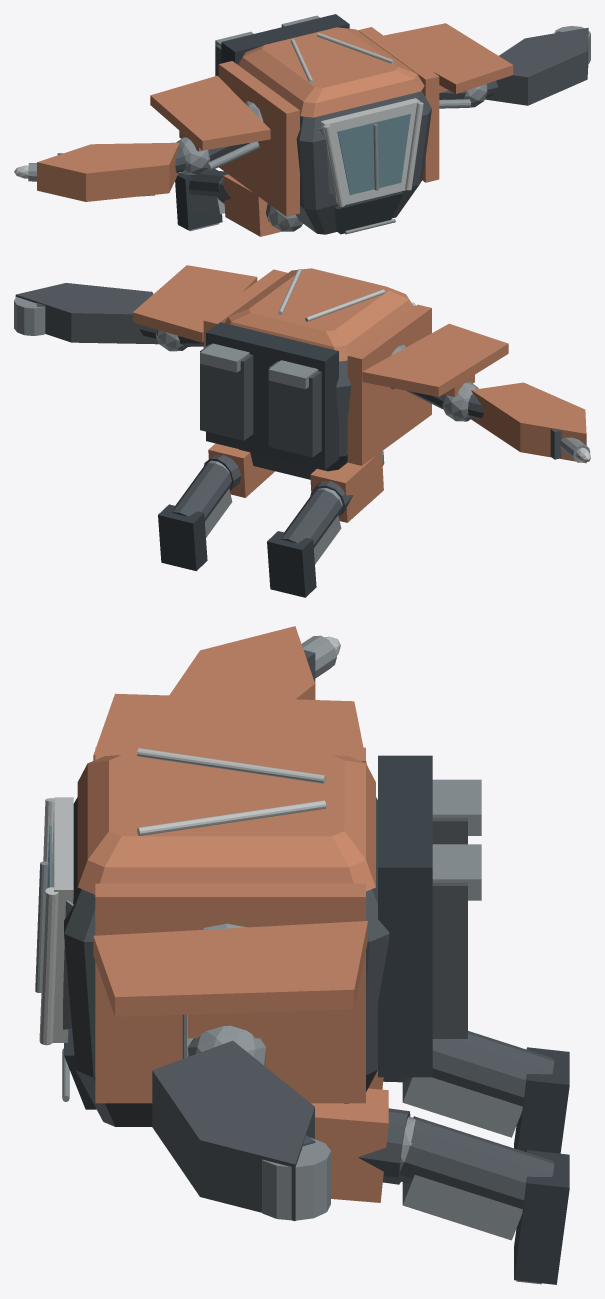
File: imp_orange_flight.glb
The picture shows the model from 3 angles, top to bottom: view 1: azimuth 30°, elevation 25°; view 2: azimuth 150°, elevation 25°; view 3: azimuth 270°, elevation 25°; orthographic projection. The views are drawn at different scales.
Visible parts, largest first — view 1: roof_armor, wing_guard_left, side_armor_-1, shoulder_wing_left, wing_guard_right, main_chassis, shoulder_wing_right, cockpit_glass, cockpit_surround, side_armor_1, rear_engine_block, thigh_armor_left (+12 smaller); view 2: roof_armor, rear_engine_block, side_armor_-1, shoulder_wing_left, wing_guard_right, wing_guard_left, shoulder_wing_right, rear_engine_casing_1, rear_engine_casing_-1, foot_right, foot_left, thigh_armor_left (+12 smaller); view 3: roof_armor, side_armor_1, shoulder_wing_right, wing_guard_right, rear_engine_block, shoulder_wing_left, main_chassis, shin_right, wing_guard_left, thigh_armor_right, rear_engine_casing_1, shin_left (+18 smaller).
Boxes of the visible parts, x1=… form: roof_armor: x1=238, y1=27, x2=424, y2=117; wing_guard_left: x1=37, y1=142, x2=179, y2=201; side_armor_-1: x1=218, y1=61, x2=299, y2=216; shoulder_wing_left: x1=150, y1=75, x2=270, y2=150; wing_guard_right: x1=485, y1=27, x2=588, y2=105; main_chassis: x1=295, y1=91, x2=431, y2=234; shoulder_wing_right: x1=384, y1=23, x2=513, y2=93; cockpit_glass: x1=337, y1=114, x2=410, y2=194; cockpit_surround: x1=320, y1=98, x2=420, y2=204; side_armor_1: x1=358, y1=27, x2=439, y2=182; rear_engine_block: x1=221, y1=14, x2=349, y2=64; thigh_armor_left: x1=223, y1=174, x2=281, y2=236; roof_armor: x1=224, y1=268, x2=413, y2=361; rear_engine_block: x1=206, y1=322, x2=338, y2=469; side_armor_-1: x1=347, y1=304, x2=431, y2=465; shoulder_wing_left: x1=362, y1=323, x2=508, y2=396; wing_guard_right: x1=15, y1=283, x2=158, y2=344; wing_guard_left: x1=471, y1=382, x2=586, y2=463; shoulder_wing_right: x1=133, y1=265, x2=257, y2=342; rear_engine_casing_1: x1=200, y1=344, x2=253, y2=440; rear_engine_casing_-1: x1=268, y1=361, x2=321, y2=457; foot_right: x1=158, y1=504, x2=207, y2=571; foot_left: x1=267, y1=531, x2=316, y2=597; thigh_armor_left: x1=310, y1=451, x2=383, y2=522; roof_armor: x1=77, y1=755, x2=375, y2=894; side_armor_1: x1=95, y1=883, x2=365, y2=1103; shoulder_wing_right: x1=93, y1=921, x2=367, y2=1016; wing_guard_right: x1=152, y1=1040, x2=314, y2=1220; rear_engine_block: x1=378, y1=755, x2=432, y2=1077; shoulder_wing_left: x1=93, y1=693, x2=366, y2=764; main_chassis: x1=64, y1=797, x2=389, y2=1126; shin_right: x1=399, y1=1116, x2=554, y2=1219; wing_guard_left: x1=169, y1=626, x2=314, y2=699; thigh_armor_right: x1=311, y1=1088, x2=388, y2=1202; rear_engine_casing_1: x1=432, y1=882, x2=467, y2=1038; shin_left: x1=405, y1=1031, x2=554, y2=1117.
Size of the model in its own units: 6.64 by 2.42 by 2.73.
